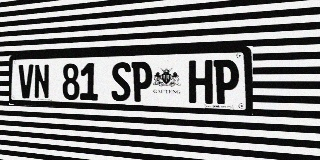1: (80, 63, 98, 101)
8: (62, 63, 79, 100)
H: (189, 60, 213, 104)
N: (34, 64, 49, 99)
P: (214, 59, 239, 105), (132, 61, 152, 102)
S: (111, 62, 131, 101)
V: (19, 64, 33, 99)
